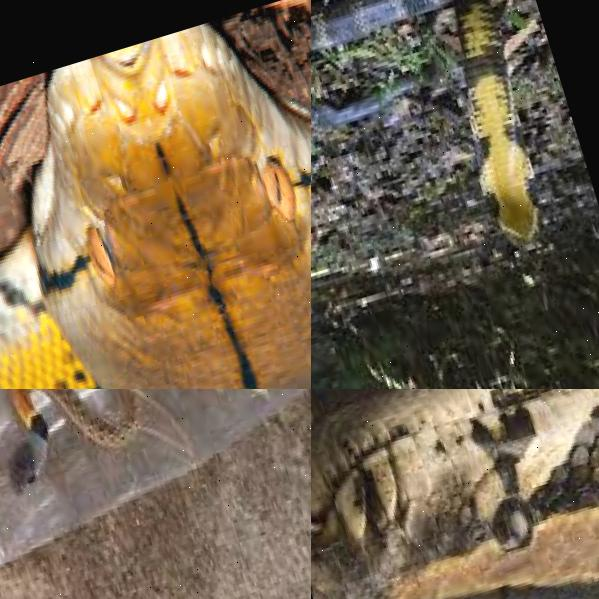2: (0, 389, 281, 505)
3: (0, 0, 311, 389)
5: (311, 0, 566, 360)
snake: (311, 389, 599, 599)
